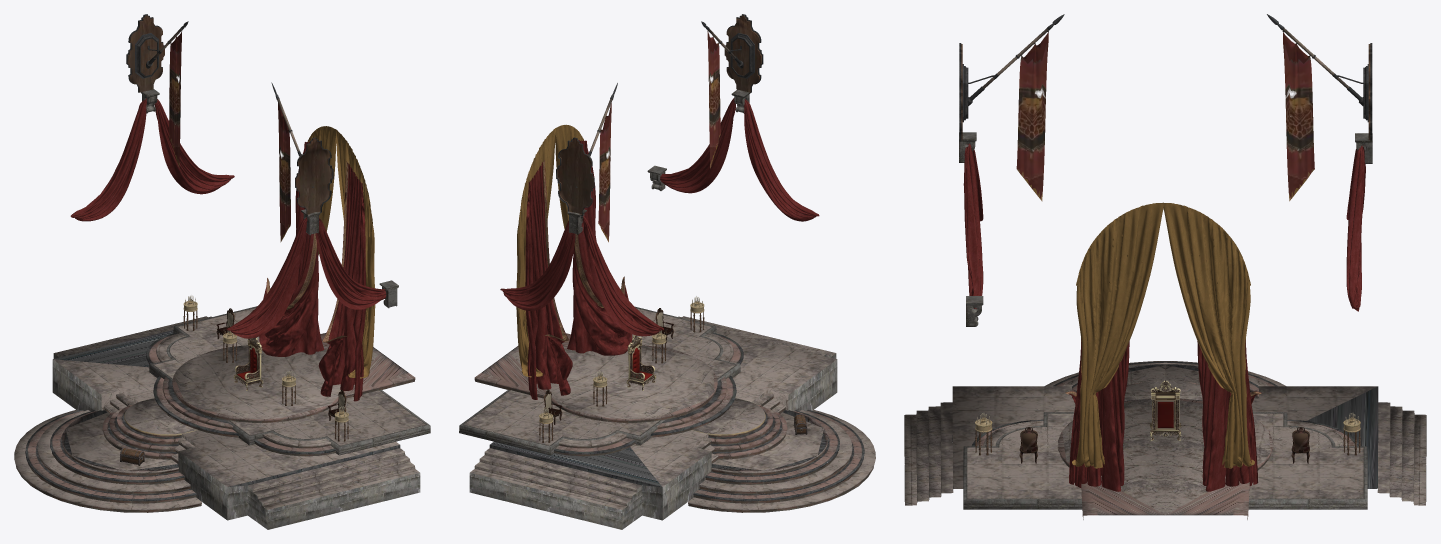
Rendered from world_diorama.glb.
3 views of the same model, side by side, from view 1: azimuth 30°, elevation 25°; view 2: azimuth 150°, elevation 25°; view 3: azimuth 270°, elevation 25° (orthographic). The views are drawn at different scales.
Parts seen in each view (by area): view 1: KB3D_ECI_IntKingsHall_A_FloorC, KB3D_ECI_IntKingsHall_A_CurtainA, KB3D_ECI_IntKingsHall_A_CurtainE, KB3D_ECI_IntKingsHall_A_CurtainH, KB3D_ECI_IntKingsHall_A_FlagA, KB3D_ECI_IntKingsHall_A_FlagE, KB3D_ECI_IntKingsHall_A_Throne; view 2: KB3D_ECI_IntKingsHall_A_FloorC, KB3D_ECI_IntKingsHall_A_CurtainA, KB3D_ECI_IntKingsHall_A_CurtainH, KB3D_ECI_IntKingsHall_A_CurtainE, KB3D_ECI_IntKingsHall_A_FlagE, KB3D_ECI_IntKingsHall_A_FlagA, KB3D_ECI_IntKingsHall_A_Throne; view 3: KB3D_ECI_IntKingsHall_A_FloorC, KB3D_ECI_IntKingsHall_A_CurtainA, KB3D_ECI_IntKingsHall_A_FlagE, KB3D_ECI_IntKingsHall_A_FlagA, KB3D_ECI_IntKingsHall_A_CurtainE, KB3D_ECI_IntKingsHall_A_CurtainH, KB3D_ECI_IntKingsHall_A_Throne.
Part boxes in pixels (left/top/right/bottom): KB3D_ECI_IntKingsHall_A_FloorC: left=14, top=306, right=430, bottom=529; KB3D_ECI_IntKingsHall_A_CurtainA: left=259, top=126, right=375, bottom=401; KB3D_ECI_IntKingsHall_A_CurtainE: left=226, top=217, right=386, bottom=338; KB3D_ECI_IntKingsHall_A_CurtainH: left=70, top=98, right=234, bottom=221; KB3D_ECI_IntKingsHall_A_FlagA: left=271, top=82, right=333, bottom=242; KB3D_ECI_IntKingsHall_A_FlagE: left=126, top=14, right=188, bottom=167; KB3D_ECI_IntKingsHall_A_Throne: left=233, top=337, right=263, bottom=390; KB3D_ECI_IntKingsHall_A_FloorC: left=459, top=306, right=875, bottom=529; KB3D_ECI_IntKingsHall_A_CurtainA: left=516, top=124, right=632, bottom=399; KB3D_ECI_IntKingsHall_A_CurtainH: left=500, top=215, right=663, bottom=336; KB3D_ECI_IntKingsHall_A_CurtainE: left=660, top=98, right=819, bottom=221; KB3D_ECI_IntKingsHall_A_FlagE: left=556, top=83, right=617, bottom=242; KB3D_ECI_IntKingsHall_A_FlagA: left=701, top=14, right=763, bottom=168; KB3D_ECI_IntKingsHall_A_Throne: left=626, top=335, right=656, bottom=390; KB3D_ECI_IntKingsHall_A_FloorC: left=904, top=361, right=1426, bottom=519; KB3D_ECI_IntKingsHall_A_CurtainA: left=1065, top=202, right=1261, bottom=491; KB3D_ECI_IntKingsHall_A_FlagE: left=1267, top=14, right=1372, bottom=201; KB3D_ECI_IntKingsHall_A_FlagA: left=959, top=14, right=1064, bottom=201; KB3D_ECI_IntKingsHall_A_CurtainE: left=963, top=143, right=983, bottom=309; KB3D_ECI_IntKingsHall_A_CurtainH: left=1346, top=145, right=1365, bottom=311; KB3D_ECI_IntKingsHall_A_Throne: left=1150, top=380, right=1181, bottom=440.
Size of the model in its own units: 16.37 by 17.25 by 17.35.
Materials: 16 (16 with a texture image).
